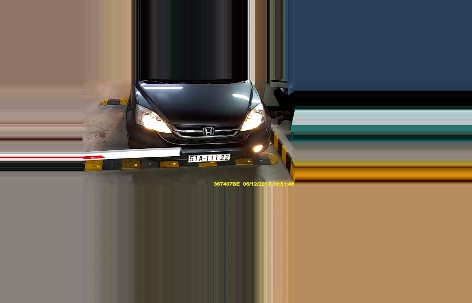plate: (186, 151, 229, 162)
